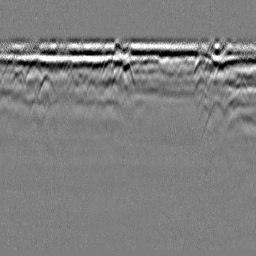cavity: (117, 54, 135, 86)
